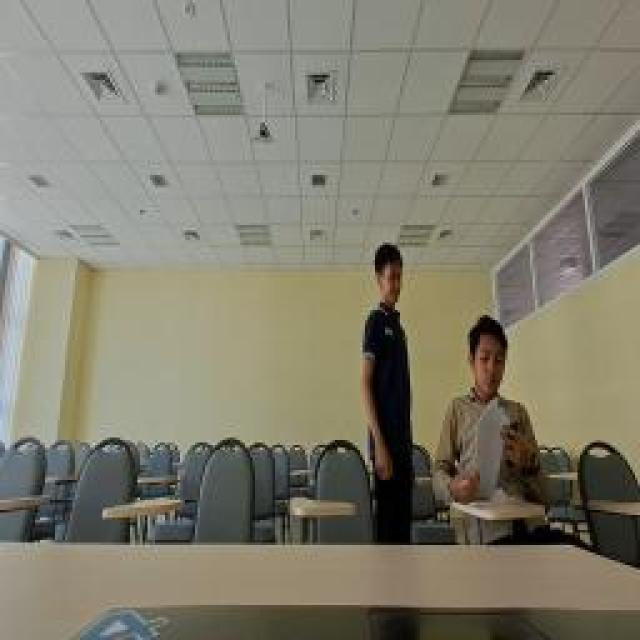study: (440, 307, 542, 505)
